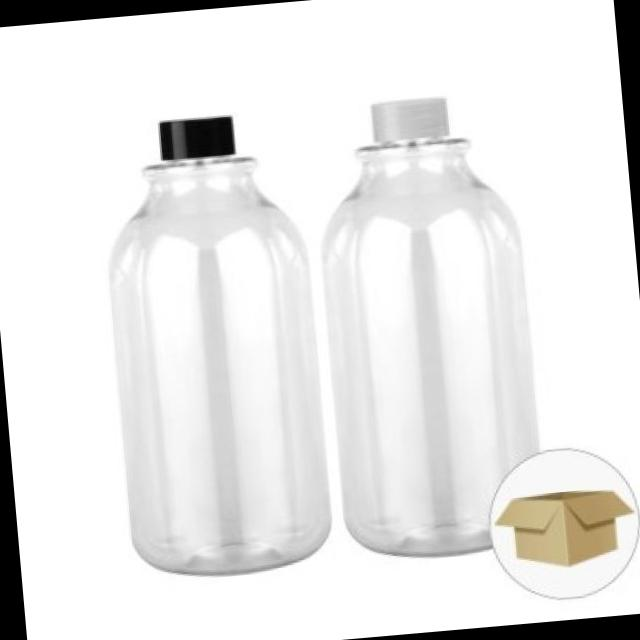BotolPlastik: (306, 88, 550, 564), (92, 107, 336, 582)
